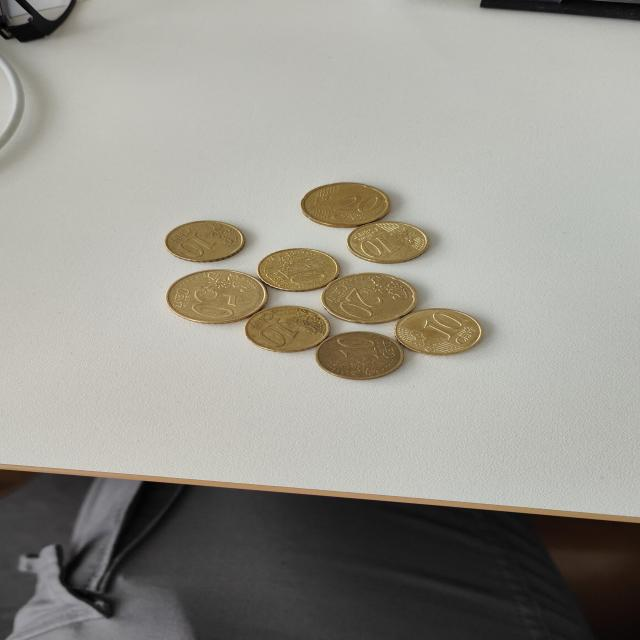10c: (304, 328, 413, 383), (239, 298, 334, 358), (388, 305, 487, 358), (156, 216, 250, 267), (345, 217, 435, 270), (251, 246, 345, 296)
20c: (314, 266, 424, 329), (292, 179, 408, 233)
50c: (158, 266, 282, 327)
